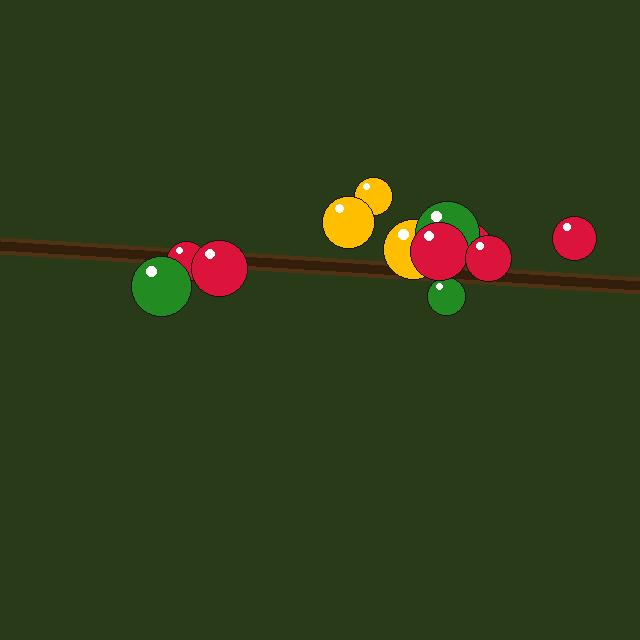Ripe: (410, 222, 468, 280), (191, 240, 247, 296), (465, 235, 511, 281), (552, 216, 596, 260), (166, 241, 206, 281), (454, 224, 490, 260)
Ripening: (383, 219, 443, 279), (322, 196, 374, 248), (354, 177, 392, 215)
Unripe: (415, 201, 479, 265), (131, 256, 191, 316), (427, 277, 465, 315)
